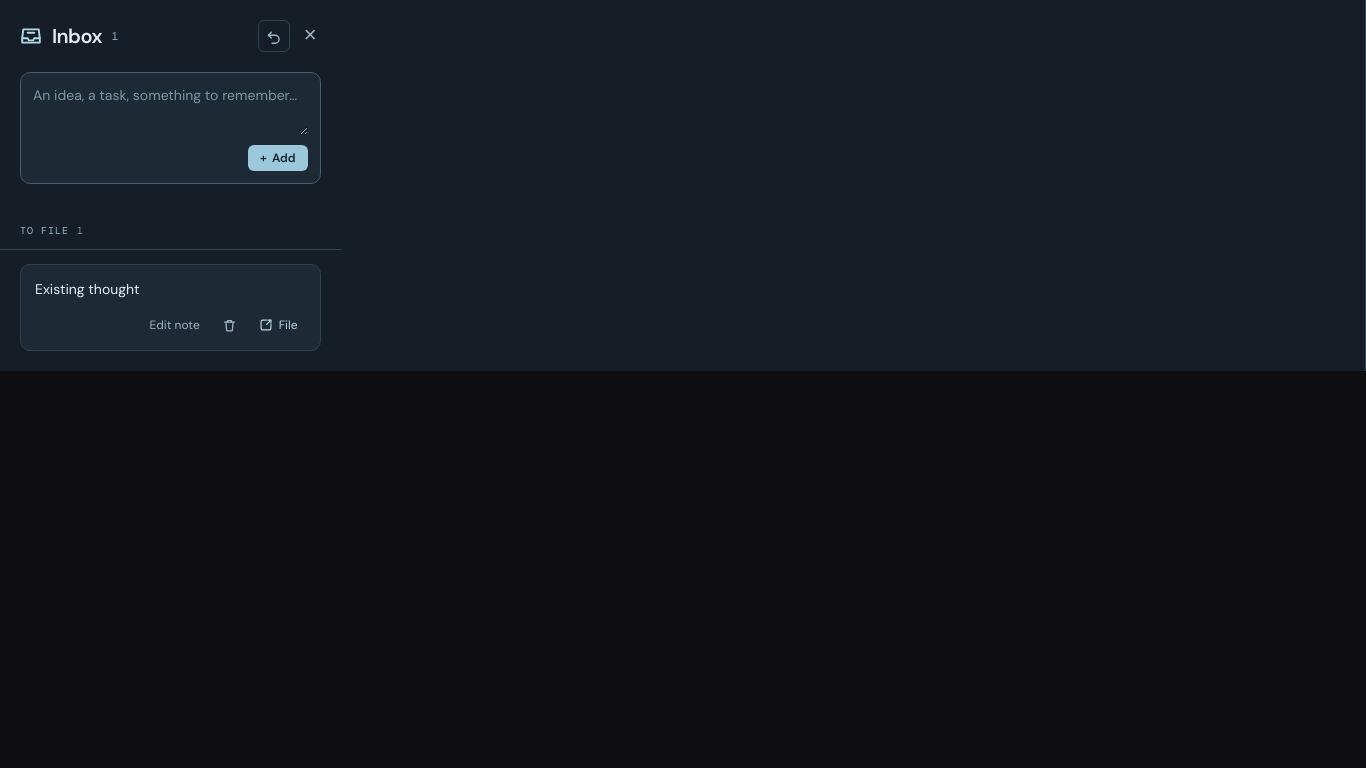
Test case: Inbox panel › uses the existing destination picker, then removes the filed note
This screenshot has width=1366, height=768.
Click the button with class "inbox-file" at [278, 325], box [251, 307, 306, 343]
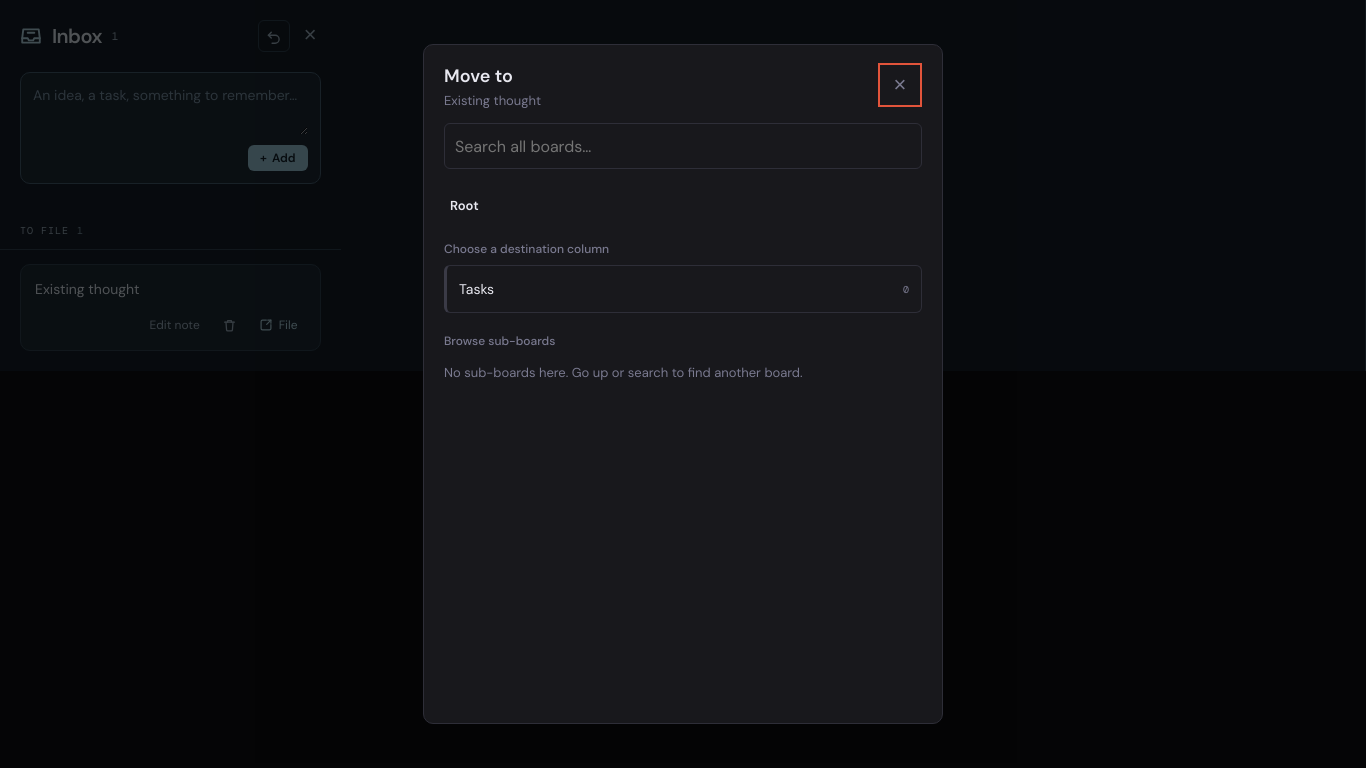
Click the button with class "move-col-btn" at [477, 289], box [444, 265, 922, 313]
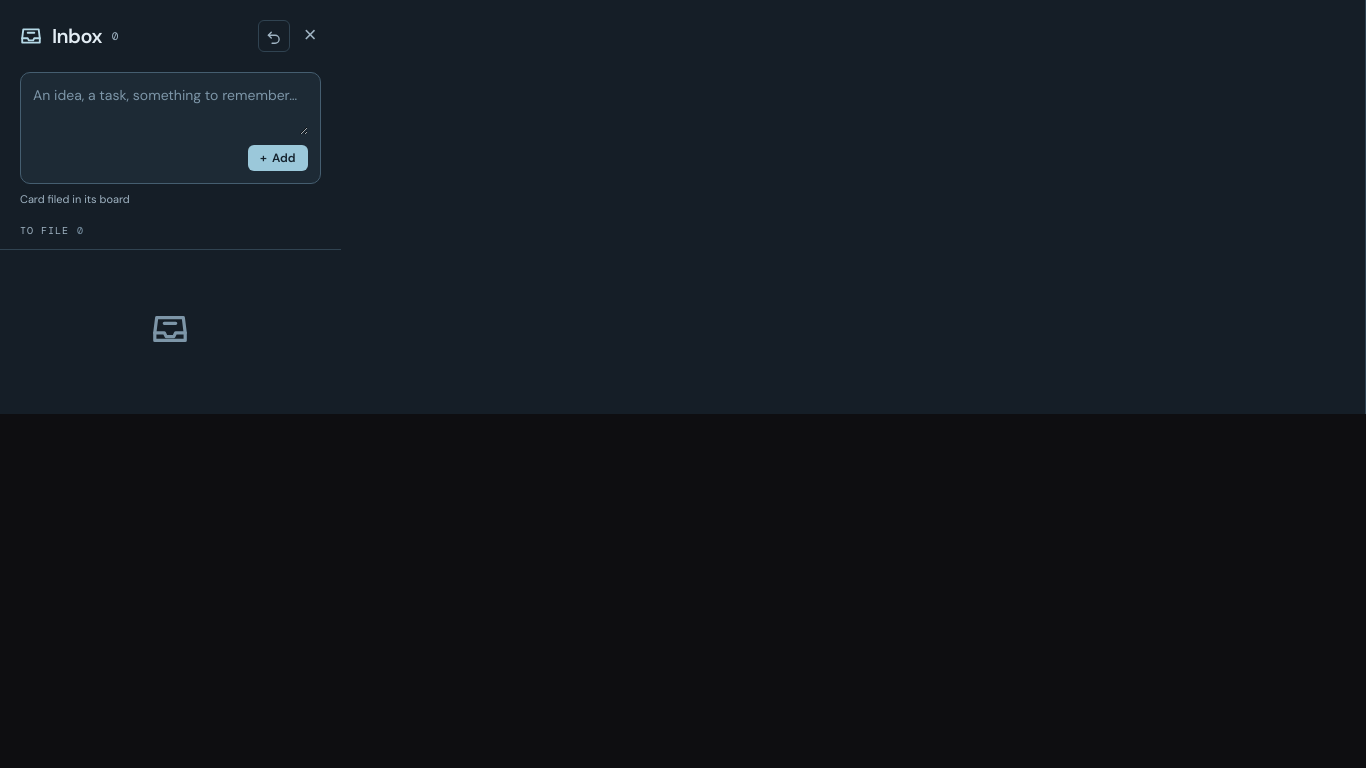
Check: the dialog with class "move-dialog" is gone
Check: no list items with class "inbox-item" are shown
Check: the element with class "inbox-panel" shows "Card filed in its board", box [20, 192, 130, 206]
